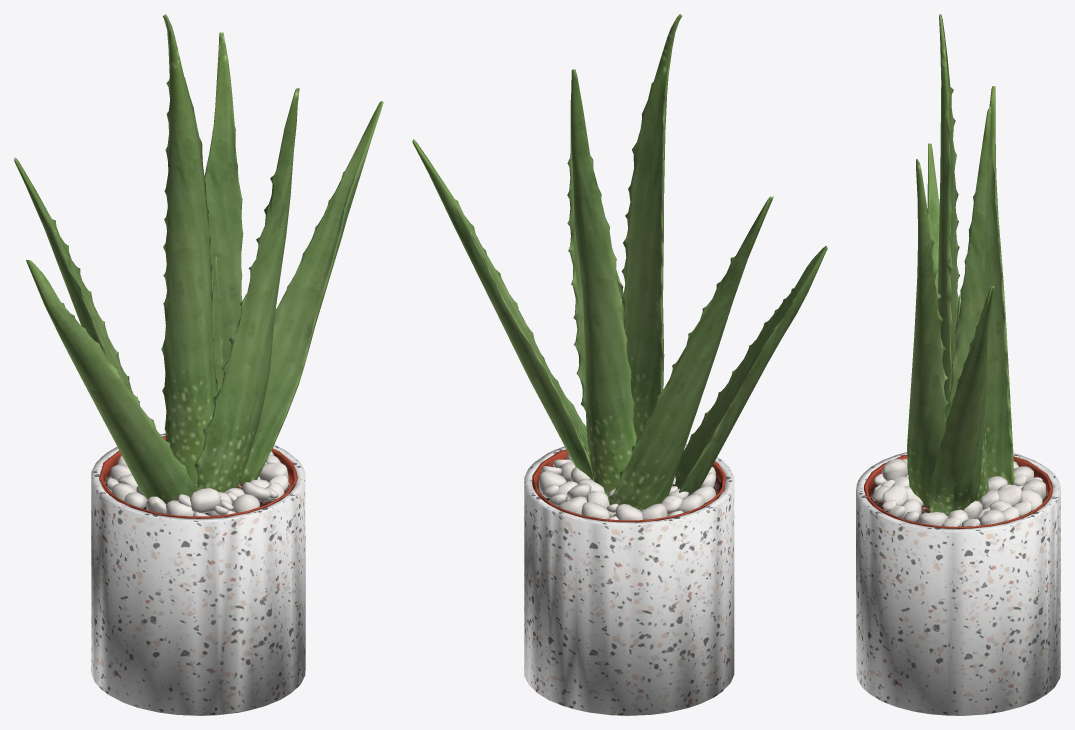
The model's file is floor_plant_2.glb.
3 renders of one model, left to right at view 1: azimuth 30°, elevation 25°; view 2: azimuth 150°, elevation 25°; view 3: azimuth 270°, elevation 25°, orthographic. The views are drawn at different scales.
Visible parts, largest first — view 1: aloe_1, pot1, rock, pot2; view 2: aloe_1, pot1, rock, pot2; view 3: pot1, aloe_1, rock, pot2.
Boxes of the visible parts, x1=… form: aloe_1: x1=14, y1=14, x2=383, y2=504; pot1: x1=91, y1=433, x2=305, y2=715; rock: x1=106, y1=451, x2=288, y2=516; pot2: x1=99, y1=436, x2=297, y2=518; aloe_1: x1=412, y1=14, x2=827, y2=510; pot1: x1=524, y1=444, x2=734, y2=715; rock: x1=538, y1=444, x2=716, y2=520; pot2: x1=532, y1=449, x2=726, y2=522; pot1: x1=856, y1=452, x2=1060, y2=715; aloe_1: x1=907, y1=14, x2=1014, y2=515; rock: x1=871, y1=458, x2=1045, y2=526; pot2: x1=864, y1=455, x2=1052, y2=528.
Size of the model in its own units: 0.6378 by 1.05 by 0.3055.
Materials: 5 (4 with a texture image).
